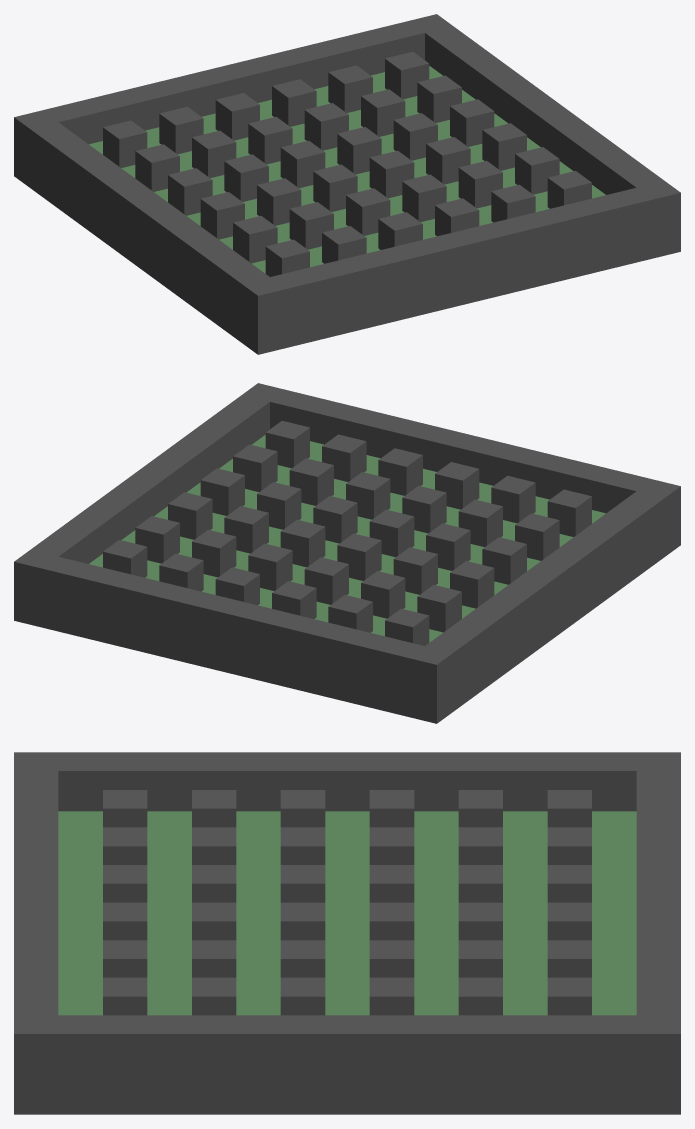
The model's file is stage.fbx.
3 renders of one model, top to bottom at view 1: azimuth 30°, elevation 25°; view 2: azimuth 150°, elevation 25°; view 3: azimuth 270°, elevation 25°, orthographic. The views are drawn at different scales.
Visible parts, largest first — view 1: polySurface2, polySurface1; view 2: polySurface2, polySurface1; view 3: polySurface2, polySurface1.
Part boxes in pixels (x1,y1,x2,y2): polySurface2: [14, 14, 680, 354]; polySurface1: [89, 66, 605, 273]; polySurface2: [14, 383, 680, 723]; polySurface1: [89, 435, 605, 642]; polySurface2: [14, 752, 680, 1114]; polySurface1: [58, 811, 636, 1015].
Bounding box in the file's own units: 1500 × 200 × 1500.
